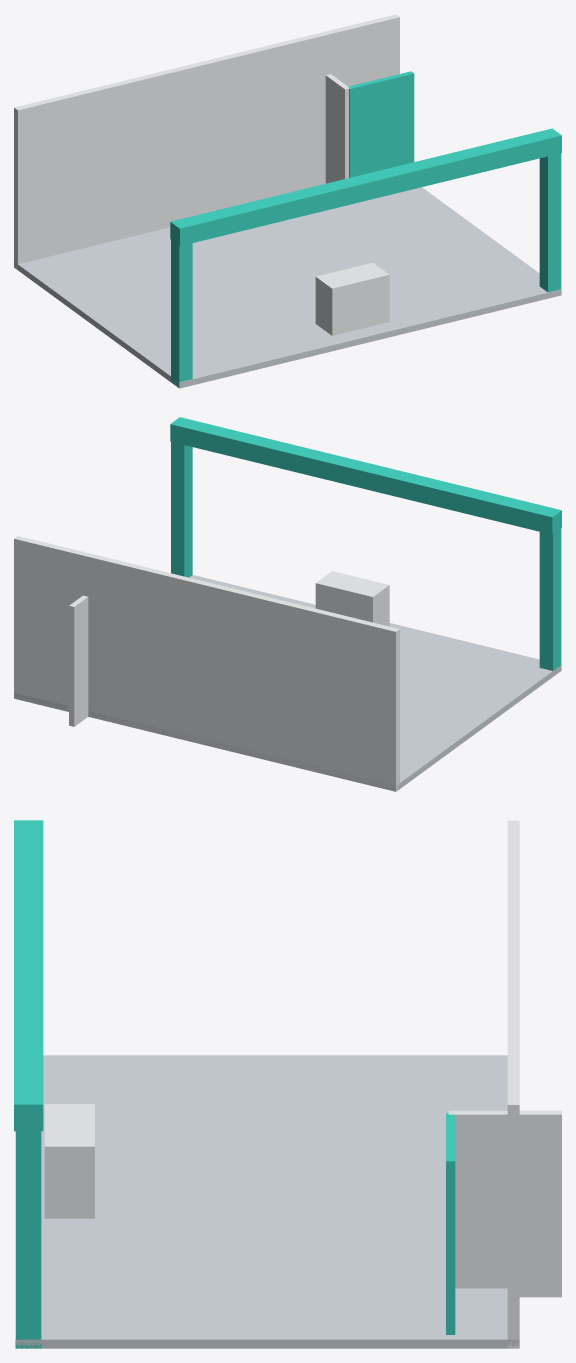
3 renders of one model, top to bottom at view 1: azimuth 30°, elevation 25°; view 2: azimuth 150°, elevation 25°; view 3: azimuth 270°, elevation 25°, orthographic. The views are drawn at different scales.
Parts seen in each view (by area): view 1: Exhibition Booth Concept; view 2: Exhibition Booth Concept; view 3: Exhibition Booth Concept.
Part boxes in pixels (<box>): Exhibition Booth Concept: <box>14,14,561,388</box>; Exhibition Booth Concept: <box>14,417,561,791</box>; Exhibition Booth Concept: <box>14,820,561,1348</box>.
Bounding box in the file's own units: 8 × 3.2 × 6.52.
